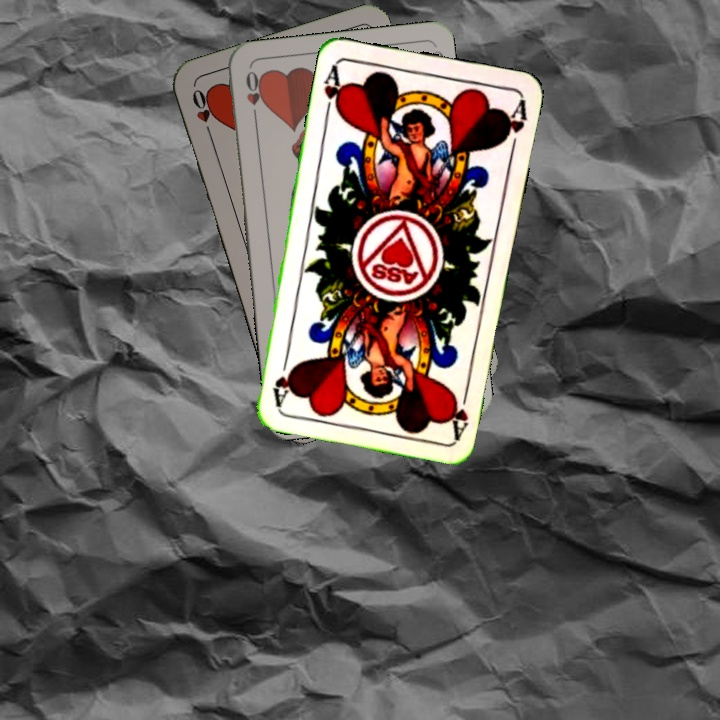HA: (444, 381, 472, 440), (320, 60, 347, 119)
HO: (188, 84, 217, 142), (241, 67, 265, 125)
